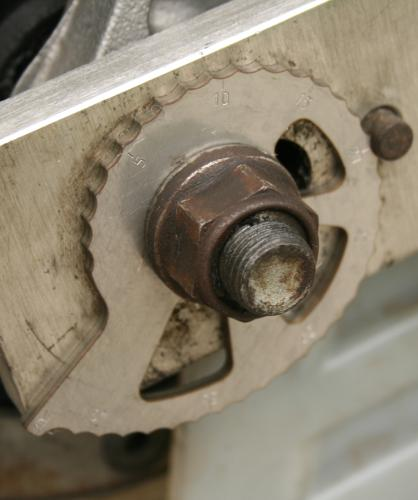bolt_b: (167, 161, 322, 324)
